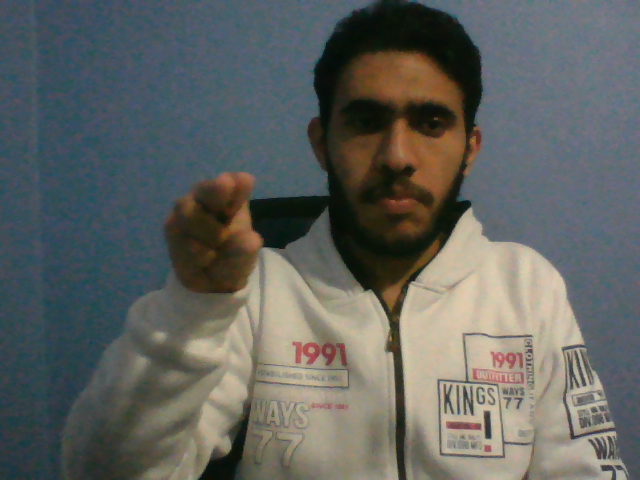no: (156, 166, 267, 305)
